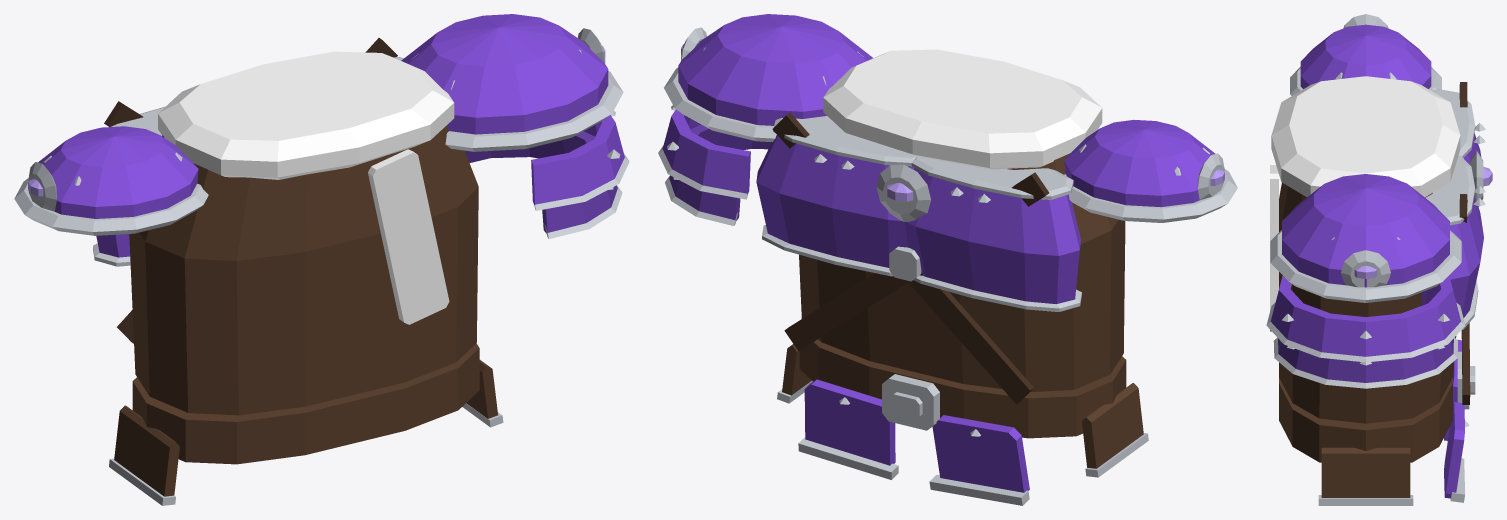
The model's file is look3_armor_dualblade_epic.fbx.
The picture shows the model from 3 angles, left to right: view 1: azimuth 30°, elevation 25°; view 2: azimuth 150°, elevation 25°; view 3: azimuth 270°, elevation 25°; orthographic projection. The views are drawn at different scales.
Visible parts, largest first — view 1: Main, Tasset; view 2: Main, Tasset; view 3: Main, Tasset.
Part boxes in pixels (x1,y1,x2,y2): Main: [14, 14, 629, 464]; Tasset: [109, 360, 503, 505]; Main: [658, 14, 1237, 438]; Tasset: [777, 344, 1148, 505]; Main: [1266, 14, 1492, 462]; Tasset: [1318, 339, 1469, 505].
Size of the model in its own units: 408 by 263 by 153.
